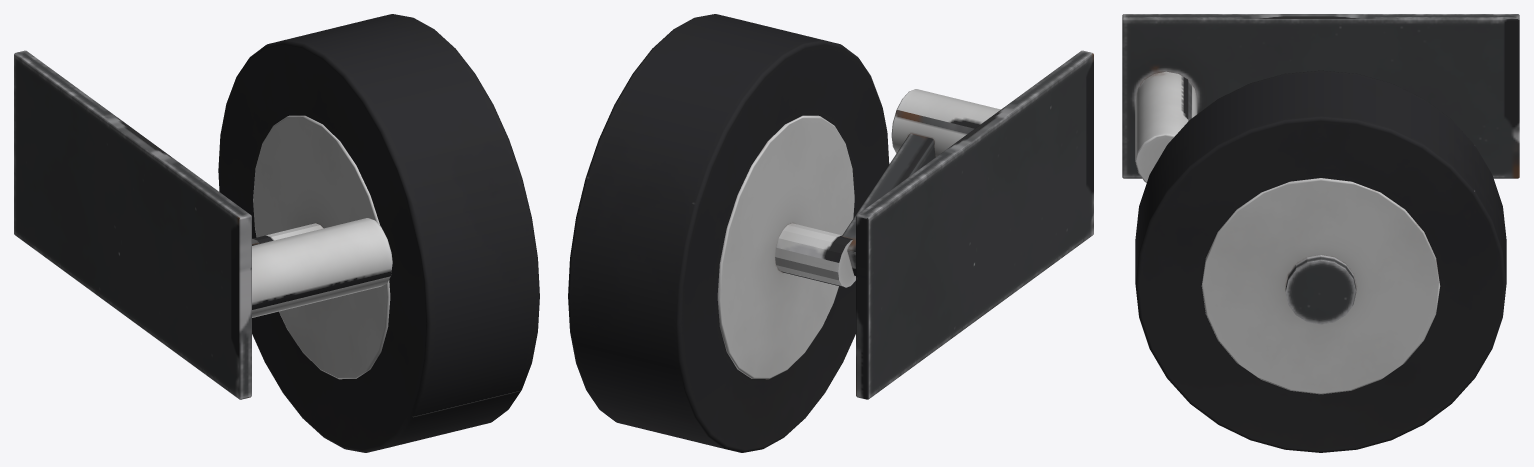
Rendered from SM_PartWheelLarge.glb.
The picture shows the model from 3 angles, left to right: view 1: azimuth 30°, elevation 25°; view 2: azimuth 150°, elevation 25°; view 3: azimuth 270°, elevation 25°; orthographic projection. The views are drawn at different scales.
Visible parts, largest first — view 1: SM_PartWheelLarge_Wheel, SM_PartWheelLarge, SM_PartWheelLarge_Arm; view 2: SM_PartWheelLarge_Wheel, SM_PartWheelLarge, SM_PartWheelLarge_Arm; view 3: SM_PartWheelLarge_Wheel, SM_PartWheelLarge.
Part boxes in pixels (left/top/right/bottom): SM_PartWheelLarge_Wheel: left=218, top=14, right=539, bottom=452; SM_PartWheelLarge: left=14, top=50, right=392, bottom=399; SM_PartWheelLarge_Arm: left=252, top=223, right=323, bottom=245; SM_PartWheelLarge_Wheel: left=568, top=14, right=889, bottom=452; SM_PartWheelLarge: left=856, top=50, right=1093, bottom=399; SM_PartWheelLarge_Arm: left=775, top=133, right=935, bottom=287; SM_PartWheelLarge_Wheel: left=1135, top=70, right=1506, bottom=452; SM_PartWheelLarge: left=1122, top=14, right=1519, bottom=182.
Bounding box in the file's own units: 1.49 × 1.68 × 1.8.
Materials: 3 (3 with a texture image).
